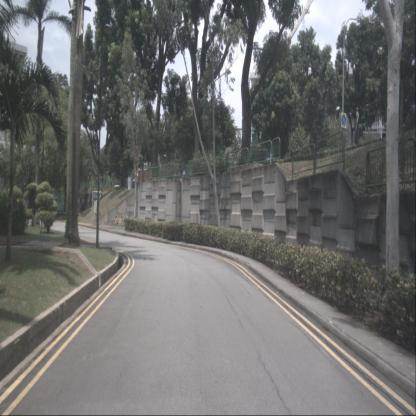vehicle-bicycle: (112, 212, 124, 227)
